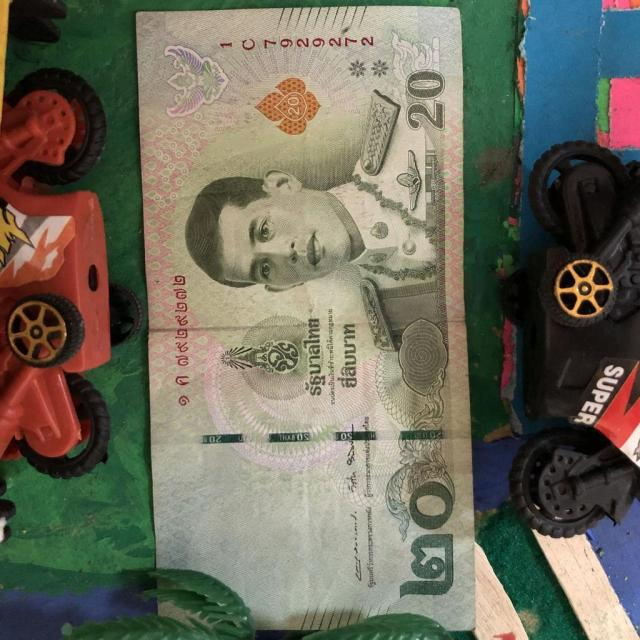THAI20: (134, 6, 476, 635)
